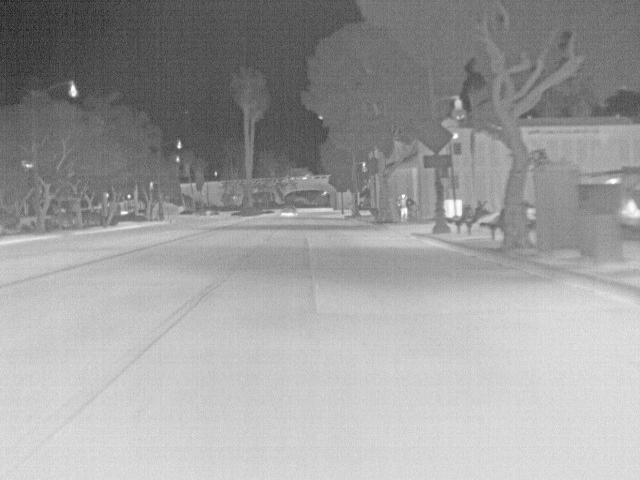car: (278, 202, 297, 220)
person: (396, 192, 409, 220)
